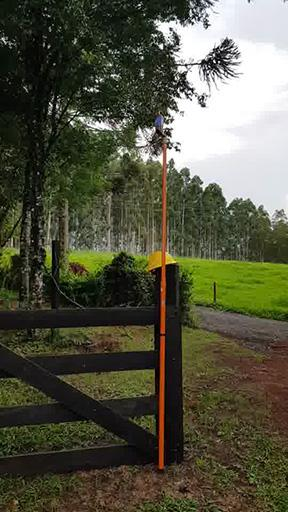Vara_Manobra: (156, 140, 168, 472)
